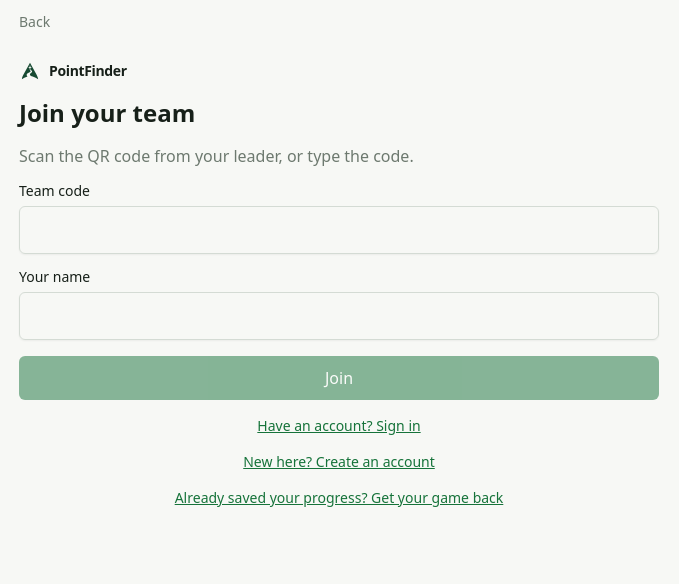
it: Join › explains an unknown code and stays on the form
In the field with test id "player-join-code-input": (339, 230) [19,206,659,254], type "BADCODE"
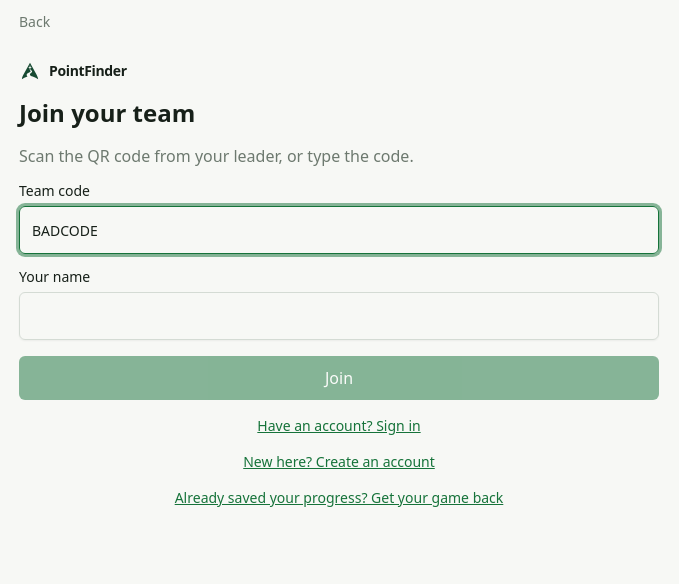
In the field with test id "player-join-name-input": (339, 316) [19,292,659,340], type "David"
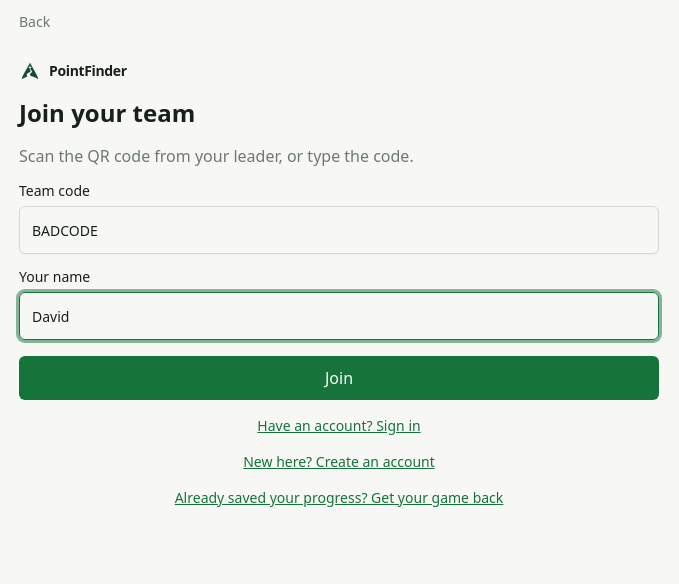
Click the button with test id "player-join-submit-btn": (339, 378) [19,356,659,400]
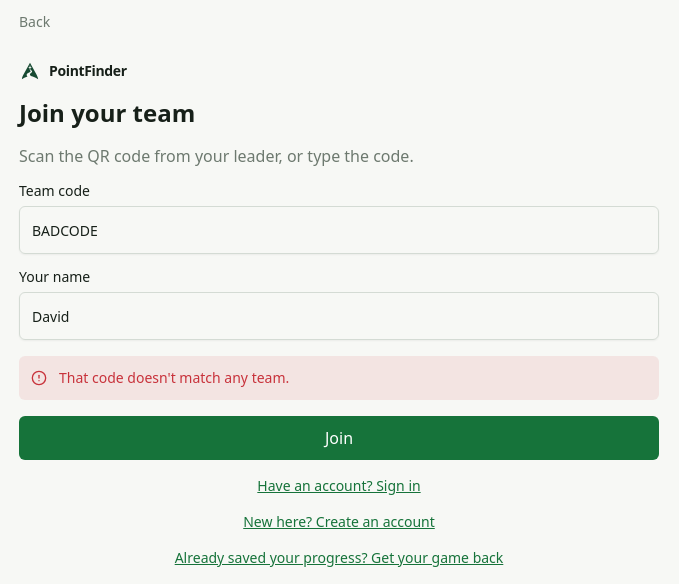
Now the message reads "That code doesn't match any team.", box [59,368,289,387]
